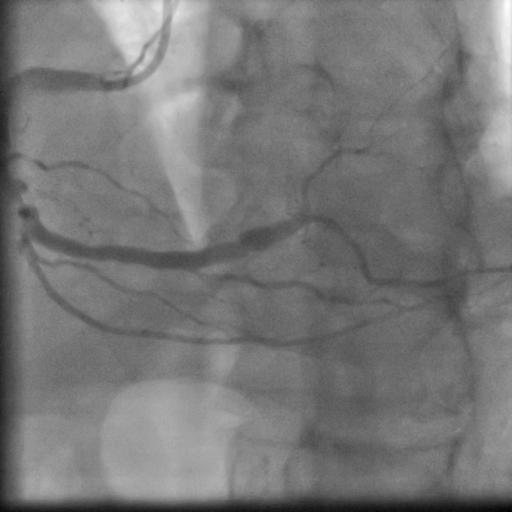Stenosis: (2, 179, 38, 221)
